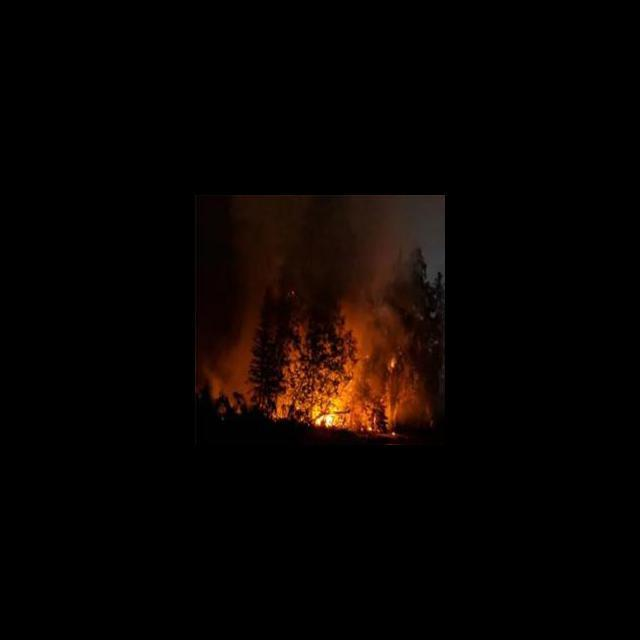Fire: (302, 388, 350, 428)
